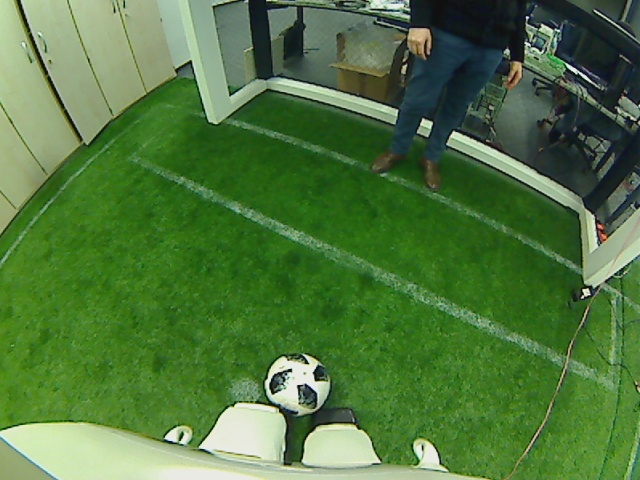ball: (261, 351, 332, 416)
